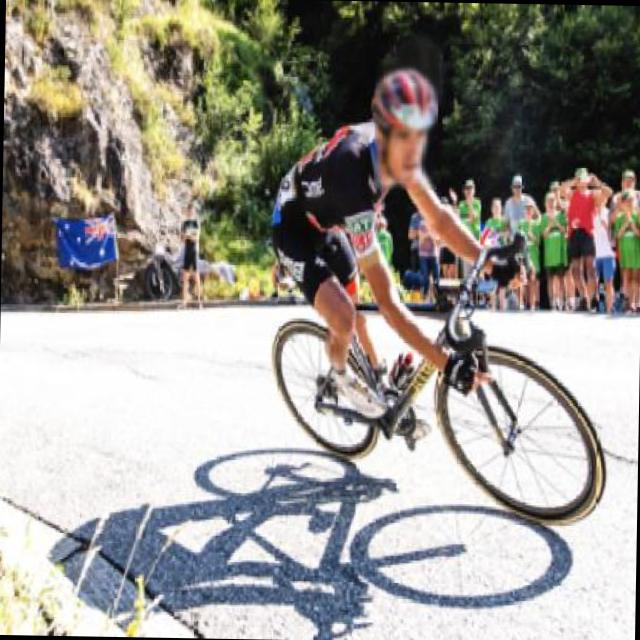With Helmet: (372, 58, 438, 191)
